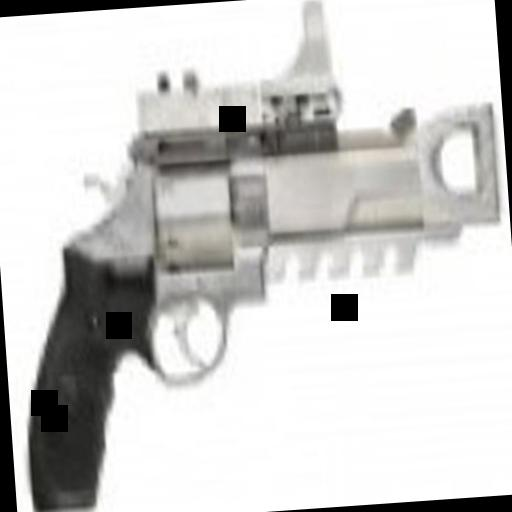Handgun: (0, 54, 512, 512)
